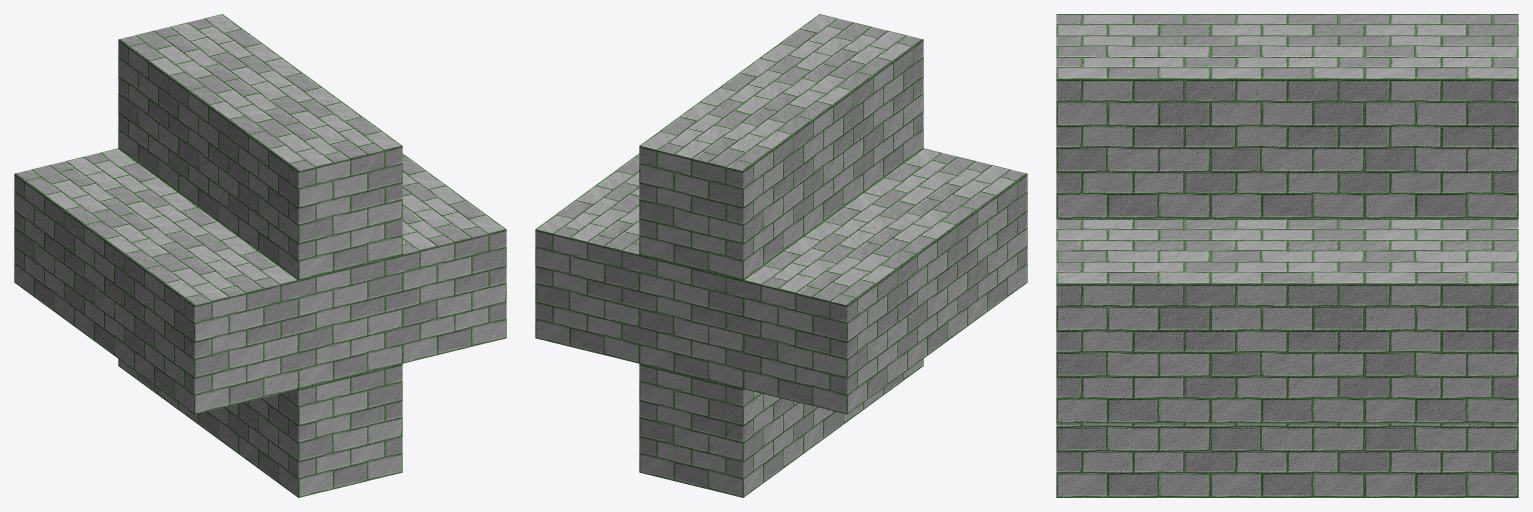
The model's file is +Platform.fbx.
3 renders of one model, left to right at view 1: azimuth 30°, elevation 25°; view 2: azimuth 150°, elevation 25°; view 3: azimuth 270°, elevation 25°, orthographic. The views are drawn at different scales.
Visible parts, largest first — view 1: Cube; view 2: Cube; view 3: Cube.
Boxes of the visible parts, bbox=[...] form: Cube: bbox=[14, 14, 506, 497]; Cube: bbox=[535, 14, 1027, 497]; Cube: bbox=[1056, 14, 1518, 497].
Bounding box in the file's own units: 600 × 600 × 600.
